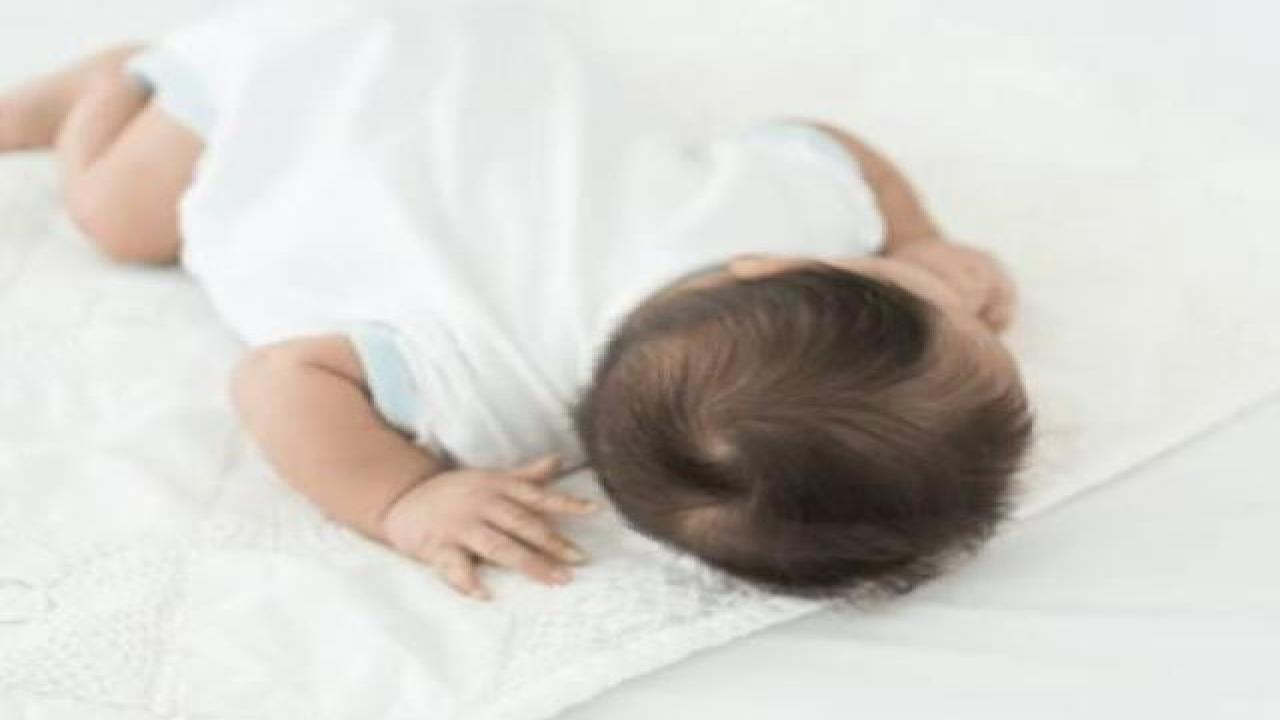hand: (382, 455, 595, 597)
